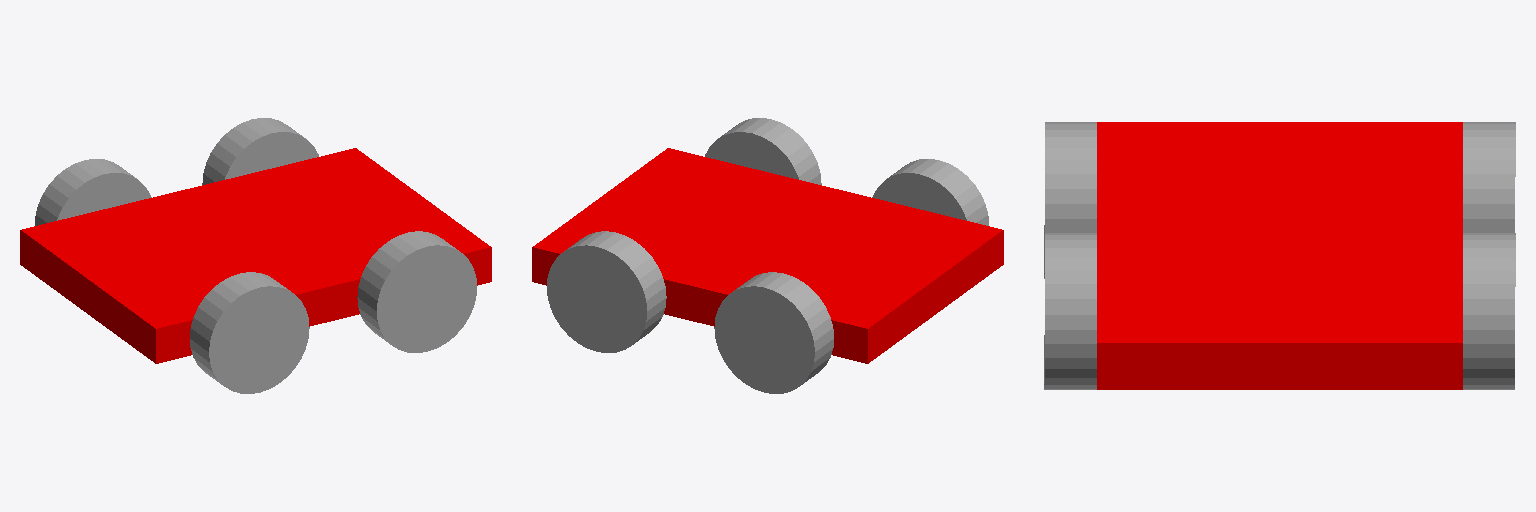
The robot description file, URDF, robot "robot_name":
<?xml version="1.0"?>
<robot name="robot_name">
    <link name="base_link">
        <visual>
            <geometry>
                <box size="1.0 0.7 0.1" />
            </geometry>
            <material name="red">
                <color rgba="1 0 0 1"/>
            </material>
        </visual>
        <collision>
            <geometry>
                <box size="1.0 1.0 1.0" />
            </geometry>
        </collision>
        <inertial>
            <mass value="0.0"/>
            <origin xyz="0.0 0.0 0.0" rpy="0.0 0.0 0.0"/>
            <inertia ixx="0.0" ixy="0.0" ixz="0.0" iyy="0.0" iyz="0.0" izz="0.0"/>
        </inertial>
    </link>
    <link name="base_footprint">
    </link>
    <joint name="base_joint" type="fixed">
        <parent link="base_footprint"/>
        <child link="base_link"/>
        <origin xyz="0 0 0.2" rpy="0 0 0"/>
        <axis xyz="0 0 0.2"/>
    </joint>

<!-- rear right wheel -->

<link name="wheel_rear_right_link">
    <visual>
        <geometry>
            <cylinder radius="0.15" length="0.1"/>
        </geometry>
        <material name="LightGrey">
            <color rgba="0.7 0.7 0.7 1.0"/>
        </material>
    </visual>
    <collision>
        <geometry>
            <cylinder radius="1.0" length="1.0"/>
        </geometry>
    </collision>
    <inertial>
        <mass value="0.0"/>
        <origin xyz="0.0 0.0 0.0" rpy="0.0 0.0 0.0"/>
        <inertia ixx="0.0" ixy="0.0" ixz="0.0" iyy="0.0" iyz="0.0" izz="0.0"/>
    </inertial>
</link>

<joint name="wheel_rear_right_joint" type="continuous">
    <parent link="base_link"/>
    <child link="wheel_rear_right_link"/>
    <origin xyz="0.25 0.4 0.0" rpy="1.57 0 0"/>
    <axis xyz="0 0 1.0"/>
    <limit lower="0.0" upper="0.0" effort="0.1" velocity="0.1"/>
</joint>


<!-- rear left wheel -->

<link name="wheel_rear_left_link">
    <visual>
        <geometry>
            <cylinder radius="0.15" length="0.1"/>
        </geometry>
        <material name="LightGrey">
            <color rgba="0.7 0.7 0.7 1.0"/>
        </material>
    </visual>
    <collision>
        <geometry>
            <cylinder radius="1.0" length="1.0"/>
        </geometry>
    </collision>
    <inertial>
        <mass value="0.0"/>
        <origin xyz="0.0 0.0 0.0" rpy="0.0 0.0 0.0"/>
        <inertia ixx="0.0" ixy="0.0" ixz="0.0" iyy="0.0" iyz="0.0" izz="0.0"/>
    </inertial>
</link>

<joint name="wheel_rear_left_joint" type="continuous">
    <parent link="base_link"/>
    <child link="wheel_rear_left_link"/>
    <origin xyz="0.25 -0.4 0.0" rpy="1.57 0 0"/>
    <axis xyz="0 0 1.0"/>
    <limit lower="0.0" upper="0.0" effort="0.1" velocity="0.1"/>
</joint>

<!-- front left wheel -->

<link name="wheel_front_left_link">
    <visual>
        <geometry>
            <cylinder radius="0.15" length="0.1"/>
        </geometry>
        <material name="LightGrey">
            <color rgba="0.7 0.7 0.7 1.0"/>
        </material>
    </visual>
    <collision>
        <geometry>
            <cylinder radius="1.0" length="1.0"/>
        </geometry>
    </collision>
    <inertial>
        <mass value="0.0"/>
        <origin xyz="0.0 0.0 0.0" rpy="0.0 0.0 0.0"/>
        <inertia ixx="0.0" ixy="0.0" ixz="0.0" iyy="0.0" iyz="0.0" izz="0.0"/>
    </inertial>
</link>

<joint name="wheel_front_left_joint" type="continuous">
    <parent link="base_link"/>
    <child link="wheel_front_left_link"/>
    <origin xyz="-0.25 -0.4 0.0" rpy="1.57 0 0"/>
    <axis xyz="0 0 1.0"/>
    <limit lower="0.0" upper="0.0" effort="0.1" velocity="0.1"/>
</joint>

<!-- front right wheel -->

<link name="wheel_front_right_link">
    <visual>
        <geometry>
            <cylinder radius="0.15" length="0.1"/>
        </geometry>
        <material name="LightGrey">
            <color rgba="0.7 0.7 0.7 1.0"/>
        </material>
    </visual>
    <collision>
        <geometry>
            <cylinder radius="1.0" length="1.0"/>
        </geometry>
    </collision>
    <inertial>
        <mass value="0.0"/>
        <origin xyz="0.0 0.0 0.0" rpy="0.0 0.0 0.0"/>
        <inertia ixx="0.0" ixy="0.0" ixz="0.0" iyy="0.0" iyz="0.0" izz="0.0"/>
    </inertial>
</link>

<joint name="wheel_front_right_joint" type="continuous">
    <parent link="base_link"/>
    <child link="wheel_front_right_link"/>
    <origin xyz="-0.25 0.4 0.0" rpy="1.57 0 0"/>
    <axis xyz="0 0 1.0"/>
    <limit lower="0.0" upper="0.0" effort="0.1" velocity="0.1"/>
</joint>

</robot>

--- Render facts (derived) ---
The picture shows the robot from 3 angles, left to right: view 1: azimuth 30°, elevation 25°; view 2: azimuth 150°, elevation 25°; view 3: azimuth 270°, elevation 25°; orthographic projection.
Robot: robot_name — 6 links, 5 joints (4 continuous, 1 fixed); root link base_footprint; default pose: every joint at zero.
Visible links, largest first — view 1: base_link, wheel_front_left_link, wheel_rear_left_link, wheel_rear_right_link, wheel_front_right_link; view 2: base_link, wheel_front_right_link, wheel_rear_right_link, wheel_rear_left_link, wheel_front_left_link; view 3: base_link, wheel_rear_left_link, wheel_rear_right_link, wheel_front_right_link, wheel_front_left_link.
Link boxes in pixels (x1,y1,x2,y2): base_link: [20, 148, 491, 363]; wheel_front_left_link: [190, 272, 309, 393]; wheel_rear_left_link: [357, 231, 476, 352]; wheel_rear_right_link: [202, 118, 318, 184]; wheel_front_right_link: [35, 159, 151, 225]; base_link: [532, 148, 1003, 363]; wheel_front_right_link: [714, 272, 833, 393]; wheel_rear_right_link: [547, 231, 666, 352]; wheel_rear_left_link: [705, 118, 821, 184]; wheel_front_left_link: [872, 159, 988, 225]; base_link: [1097, 122, 1462, 389]; wheel_rear_left_link: [1044, 233, 1096, 389]; wheel_rear_right_link: [1463, 233, 1515, 389]; wheel_front_right_link: [1463, 122, 1515, 232]; wheel_front_left_link: [1044, 122, 1096, 278].
Bounding box of the posed robot: 1 × 0.9002 × 0.3001 m (x, y, z).
Geometry: primitives only (box / cylinder / sphere), no mesh files.